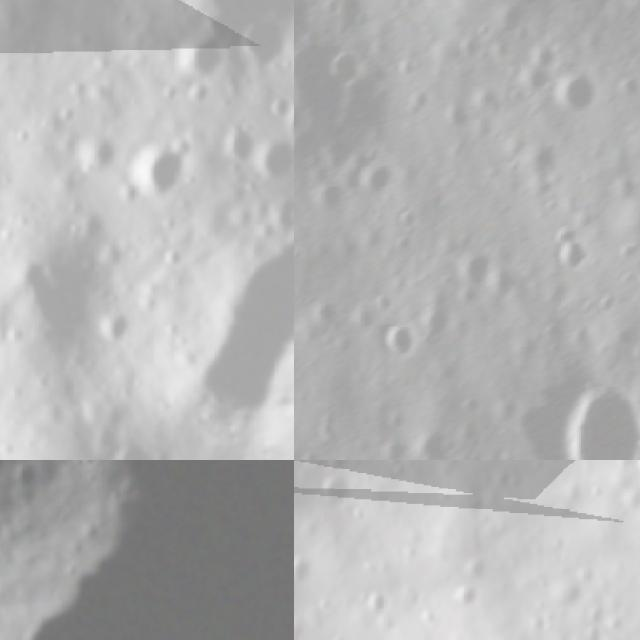crater: (0, 460, 294, 640), (294, 21, 394, 172), (525, 364, 640, 460), (114, 124, 204, 213), (219, 2, 294, 89), (161, 18, 239, 93), (294, 460, 355, 544), (543, 64, 610, 132), (64, 117, 128, 182), (204, 106, 268, 170), (85, 422, 191, 460), (86, 296, 148, 358), (540, 221, 598, 284), (311, 461, 371, 521), (244, 126, 294, 197), (342, 573, 400, 630), (371, 317, 425, 376), (454, 247, 505, 303), (418, 294, 466, 351), (268, 65, 294, 165), (550, 611, 619, 640), (460, 544, 505, 588), (450, 579, 494, 624), (294, 541, 324, 596), (8, 460, 37, 499), (72, 460, 103, 476)
